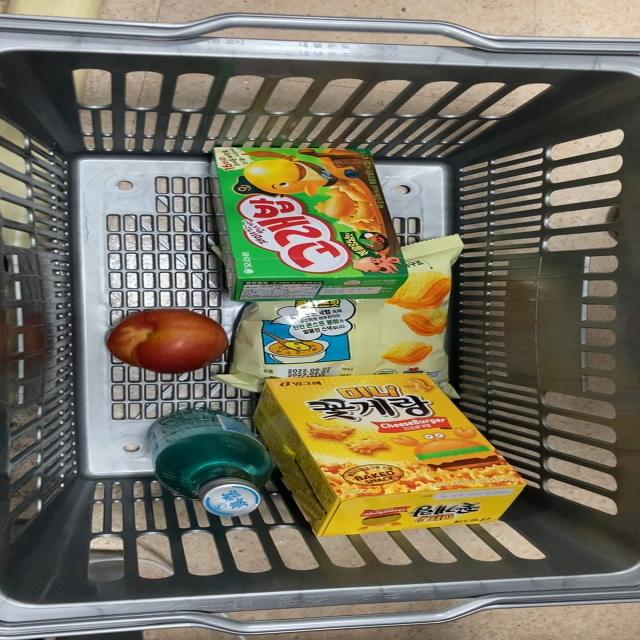ggobukchip: (238, 291, 469, 375)
goraebob: (205, 141, 398, 293)
jinro: (137, 406, 276, 526)
minicrab: (265, 374, 535, 539)
plum: (95, 303, 252, 381)
